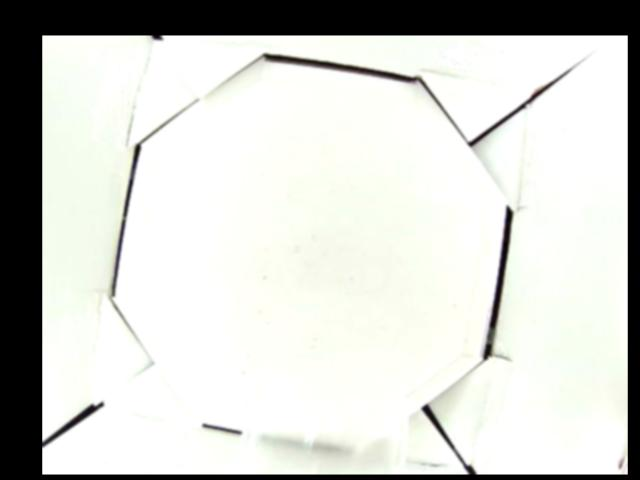Cup: (239, 399, 410, 472)
